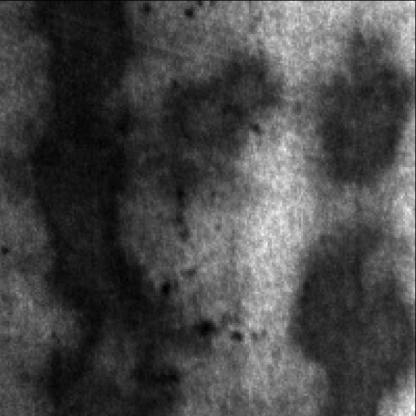patches: (8, 0, 148, 333), (46, 262, 210, 412), (293, 218, 416, 412), (152, 52, 287, 220), (320, 25, 416, 181)
